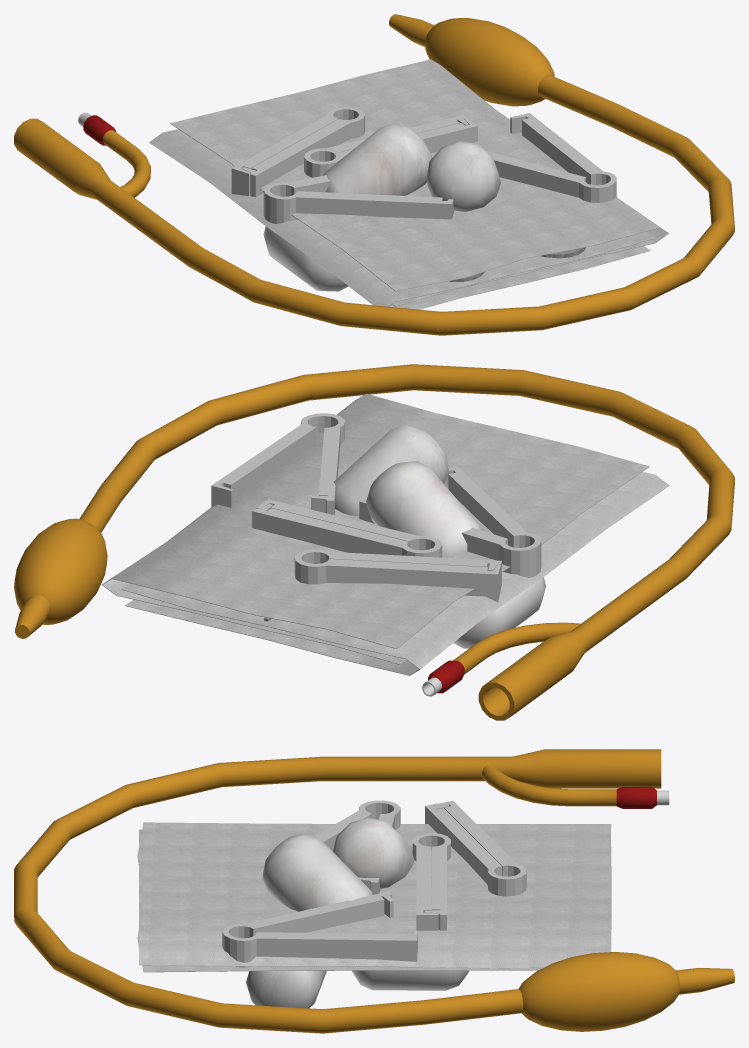
The model's file is Partus_set.fbx.
3 renders of one model, top to bottom at view 1: azimuth 30°, elevation 25°; view 2: azimuth 150°, elevation 25°; view 3: azimuth 270°, elevation 25°, orthographic. The views are drawn at different scales.
Visible parts, largest first — view 1: Partus_set:kasa_steril, Partus_set:cateter, Partus_set:umbilical_cord_clamp, Partus_set:kapas; view 2: Partus_set:kasa_steril, Partus_set:cateter, Partus_set:umbilical_cord_clamp, Partus_set:kapas; view 3: Partus_set:cateter, Partus_set:kasa_steril, Partus_set:umbilical_cord_clamp, Partus_set:kapas.
Boxes of the visible parts, x1=… form: Partus_set:kasa_steril: x1=149, y1=59, x2=668, y2=309; Partus_set:cateter: x1=14, y1=14, x2=734, y2=335; Partus_set:umbilical_cord_clamp: x1=231, y1=106, x2=616, y2=223; Partus_set:kapas: x1=263, y1=123, x2=500, y2=291; Partus_set:kasa_steril: x1=102, y1=393, x2=669, y2=675; Partus_set:cateter: x1=14, y1=364, x2=734, y2=720; Partus_set:umbilical_cord_clamp: x1=211, y1=413, x2=541, y2=602; Partus_set:kapas: x1=334, y1=424, x2=545, y2=648; Partus_set:cateter: x1=14, y1=749, x2=734, y2=1033; Partus_set:kasa_steril: x1=137, y1=822, x2=611, y2=972; Partus_set:umbilical_cord_clamp: x1=222, y1=800, x2=526, y2=967; Partus_set:kapas: x1=246, y1=817, x2=468, y2=1008.
Size of the model in its own units: 24.74 by 6.22 by 29.45.
Materials: 7 (3 with a texture image).
